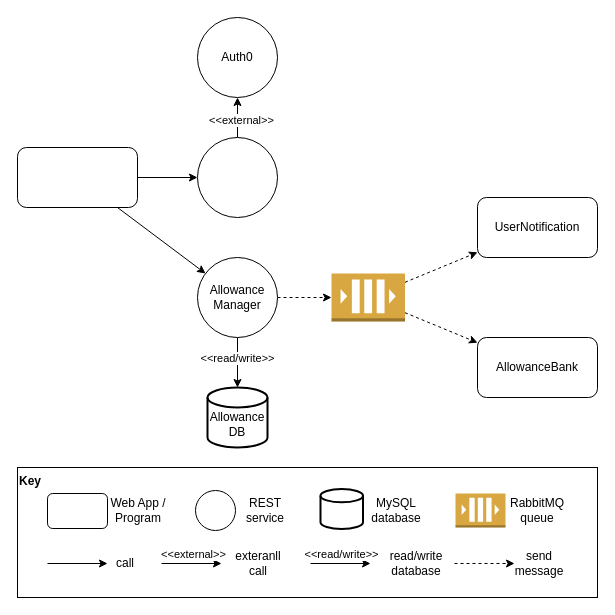
Image size: 615x615. Some labels were removed from this diagram. The shapes that lost their labels are listed below. From the top down, each one's box as (x1, y1, x2, y2) in pixels, then its label:
(16, 146, 138, 208): My Allowance Web
(196, 136, 278, 218): Authenticator
(330, 272, 405, 322): Transactions
